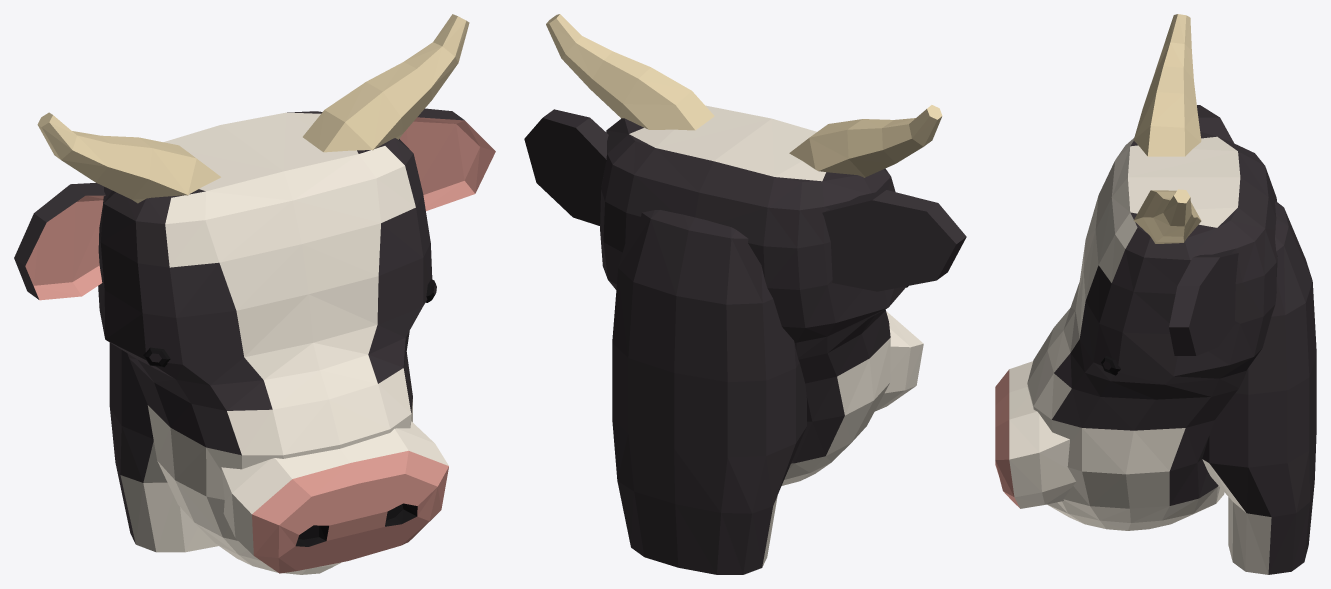
File: KANJI_13_USHI.fbx
3 renders of one model, left to right at view 1: azimuth 30°, elevation 25°; view 2: azimuth 150°, elevation 25°; view 3: azimuth 270°, elevation 25°, orthographic. The views are drawn at different scales.
Visible parts, largest first — view 1: SM_KANJI_13_Ushi; view 2: SM_KANJI_13_Ushi; view 3: SM_KANJI_13_Ushi.
Boxes of the visible parts, x1,y1,x2,y2 form: SM_KANJI_13_Ushi: (14,14,495,574); SM_KANJI_13_Ushi: (524,14,966,574); SM_KANJI_13_Ushi: (995,14,1316,574).
Bounding box in the file's own units: 0.24 × 0.2435 × 0.16.
